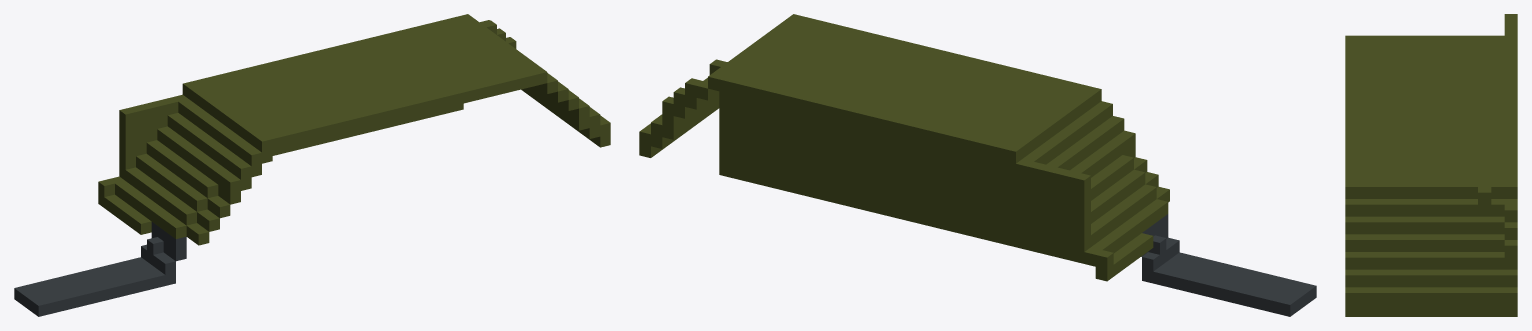
The model's file is army_jeep_front_wing.glb.
3 renders of one model, left to right at view 1: azimuth 30°, elevation 25°; view 2: azimuth 150°, elevation 25°; view 3: azimuth 270°, elevation 25°, orthographic. The views are drawn at different scales.
Parts seen in each view (by area): view 1: body:compound; view 2: body:compound; view 3: body:compound.
Boxes of the visible parts, x1,y1,x2,y2 form: body:compound: [14, 14, 610, 316]; body:compound: [639, 14, 1316, 316]; body:compound: [1345, 14, 1517, 316].
Bounding box in the file's own units: 1.66 × 0.375 × 0.4062.
